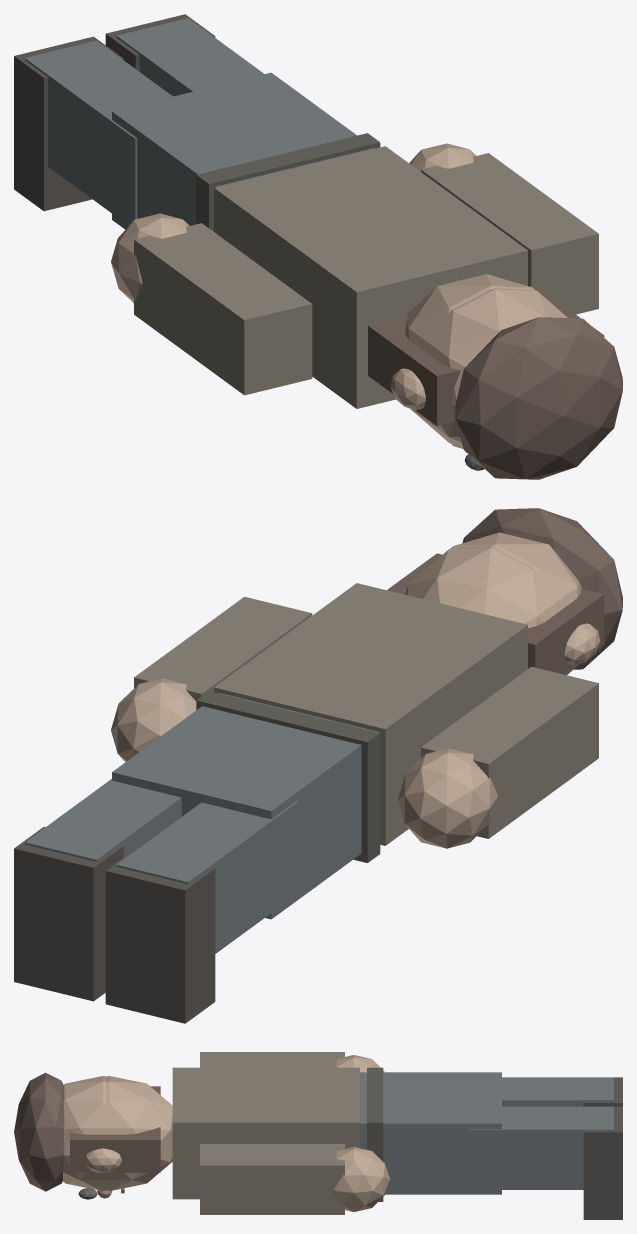
The model's file is hair_female_long.glb.
The picture shows the model from 3 angles, top to bottom: view 1: azimuth 30°, elevation 25°; view 2: azimuth 150°, elevation 25°; view 3: azimuth 270°, elevation 25°; orthographic projection. The views are drawn at different scales.
Parts seen in each view (by area): view 1: part_00, part_19, part_06, part_01, part_04, part_12, part_02, part_10, part_05, part_20, part_18, part_03 (+4 smaller); view 2: part_00, part_01, part_05, part_06, part_04, part_11, part_12, part_07, part_10, part_03, part_19, part_18 (+4 smaller); view 3: part_00, part_01, part_12, part_10, part_19, part_03, part_02, part_11, part_04, part_21, part_13, part_06 (+4 smaller).
Part boxes in pixels (left/top/right/bottom): part_00: left=214, top=146, right=527, bottom=408; part_19: left=455, top=317, right=622, bottom=479; part_06: left=134, top=223, right=312, bottom=395; part_01: left=112, top=72, right=374, bottom=229; part_04: left=25, top=40, right=172, bottom=225; part_12: left=421, top=153, right=598, bottom=314; part_02: left=413, top=288, right=567, bottom=448; part_10: left=116, top=18, right=264, bottom=96; part_05: left=14, top=36, right=123, bottom=211; part_20: left=368, top=316, right=460, bottom=425; part_18: left=196, top=133, right=380, bottom=231; part_03: left=404, top=274, right=535, bottom=442; part_00: left=214, top=583, right=527, bottom=845; part_01: left=112, top=693, right=379, bottom=919; part_05: left=105, top=849, right=215, bottom=1023; part_06: left=421, top=666, right=598, bottom=838; part_04: left=116, top=801, right=298, bottom=953; part_11: left=14, top=826, right=123, bottom=1001; part_12: left=134, top=596, right=312, bottom=700; part_07: left=398, top=748, right=497, bottom=848; part_10: left=25, top=779, right=181, bottom=861; part_03: left=405, top=546, right=562, bottom=627; part_19: left=462, top=508, right=622, bottom=669; part_18: left=196, top=691, right=380, bottom=862; part_00: left=172, top=1067, right=359, bottom=1199; part_01: left=360, top=1072, right=501, bottom=1194; part_12: left=200, top=1144, right=344, bottom=1214; part_10: left=469, top=1106, right=613, bottom=1189; part_19: left=14, top=1072, right=64, bottom=1191; part_03: left=86, top=1076, right=172, bottom=1191; part_02: left=63, top=1076, right=126, bottom=1191; part_11: left=583, top=1106, right=622, bottom=1219; part_04: left=502, top=1077, right=613, bottom=1106; part_21: left=70, top=1127, right=160, bottom=1172; part_13: left=333, top=1147, right=390, bottom=1211; part_06: left=200, top=1052, right=344, bottom=1067.
Size of the model in its own units: 0.93 by 0.435 by 2.02.
